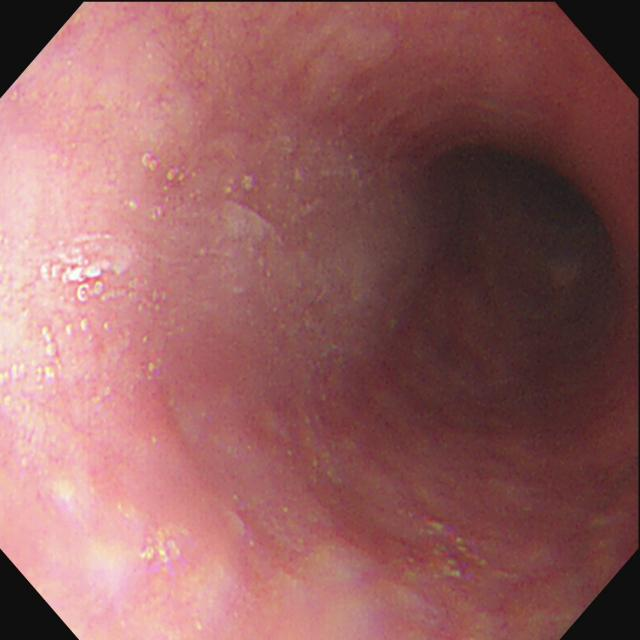E: (465, 120, 615, 319)
J: (223, 165, 324, 280)
U: (41, 230, 120, 301)
